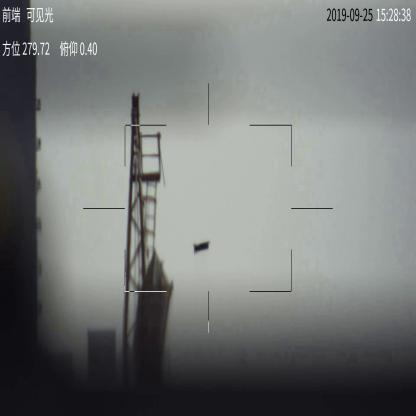uav: (192, 240, 209, 253)
